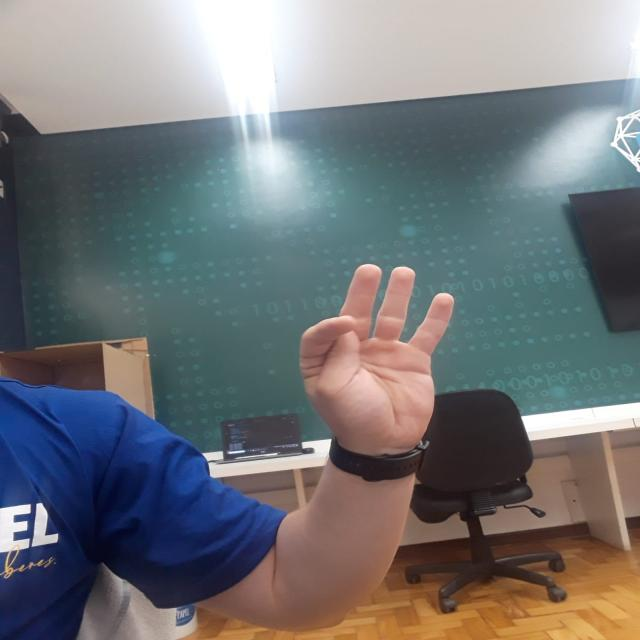T: (289, 258, 464, 444)
